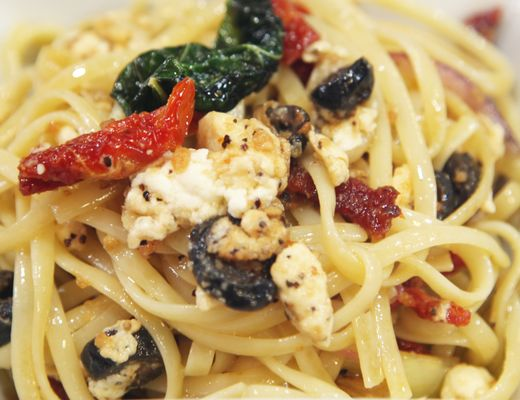curry: (111, 1, 285, 114)
